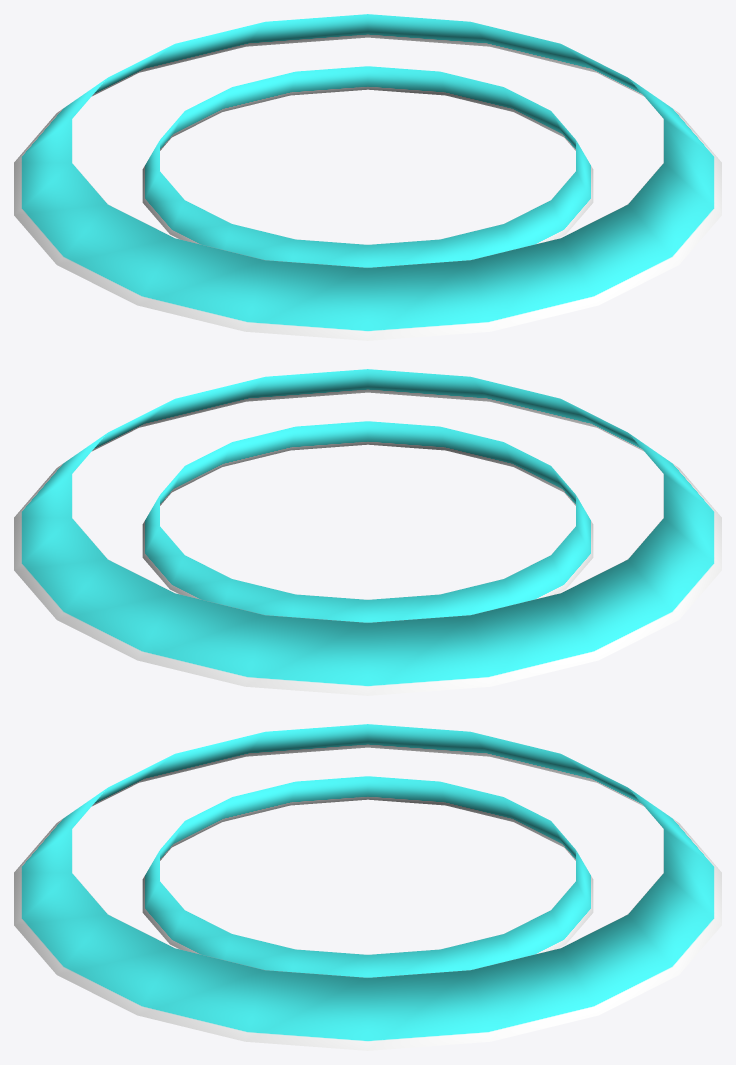
File: ts_cjdigu001.FBX
The picture shows the model from 3 angles, top to bottom: view 1: azimuth 30°, elevation 25°; view 2: azimuth 150°, elevation 25°; view 3: azimuth 270°, elevation 25°; orthographic projection.
Parts seen in each view (by area): view 1: ts_cjdigu001; view 2: ts_cjdigu001; view 3: ts_cjdigu001.
Part boxes in pixels (x1,y1,x2,y2): ts_cjdigu001: (14,14,721,340); ts_cjdigu001: (14,369,721,695); ts_cjdigu001: (14,724,721,1050).
Bounding box in the file's own units: 5.28 × 0.3893 × 5.2.
